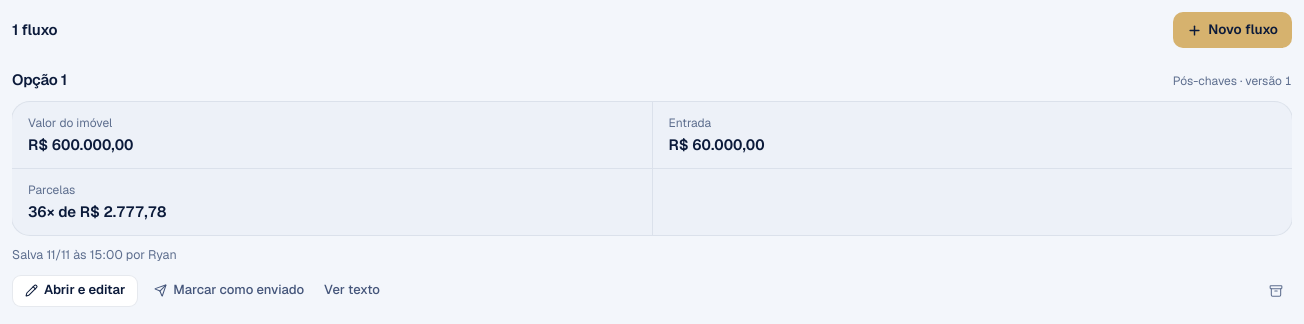
aba Fluxos da ficha › marcar como enviado passa pelo banco e relê a lista
Step 1. Click the button "Marcar como enviado" → (229,291), box [146,275,312,307]
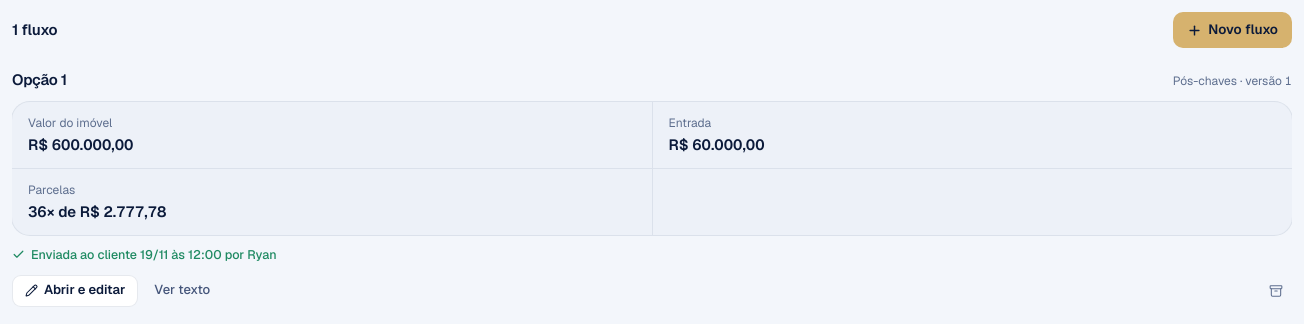
Result: the text "Enviada ao cliente 19/11 às 12:00 por Ryan" is shown at [12,245,277,265]
